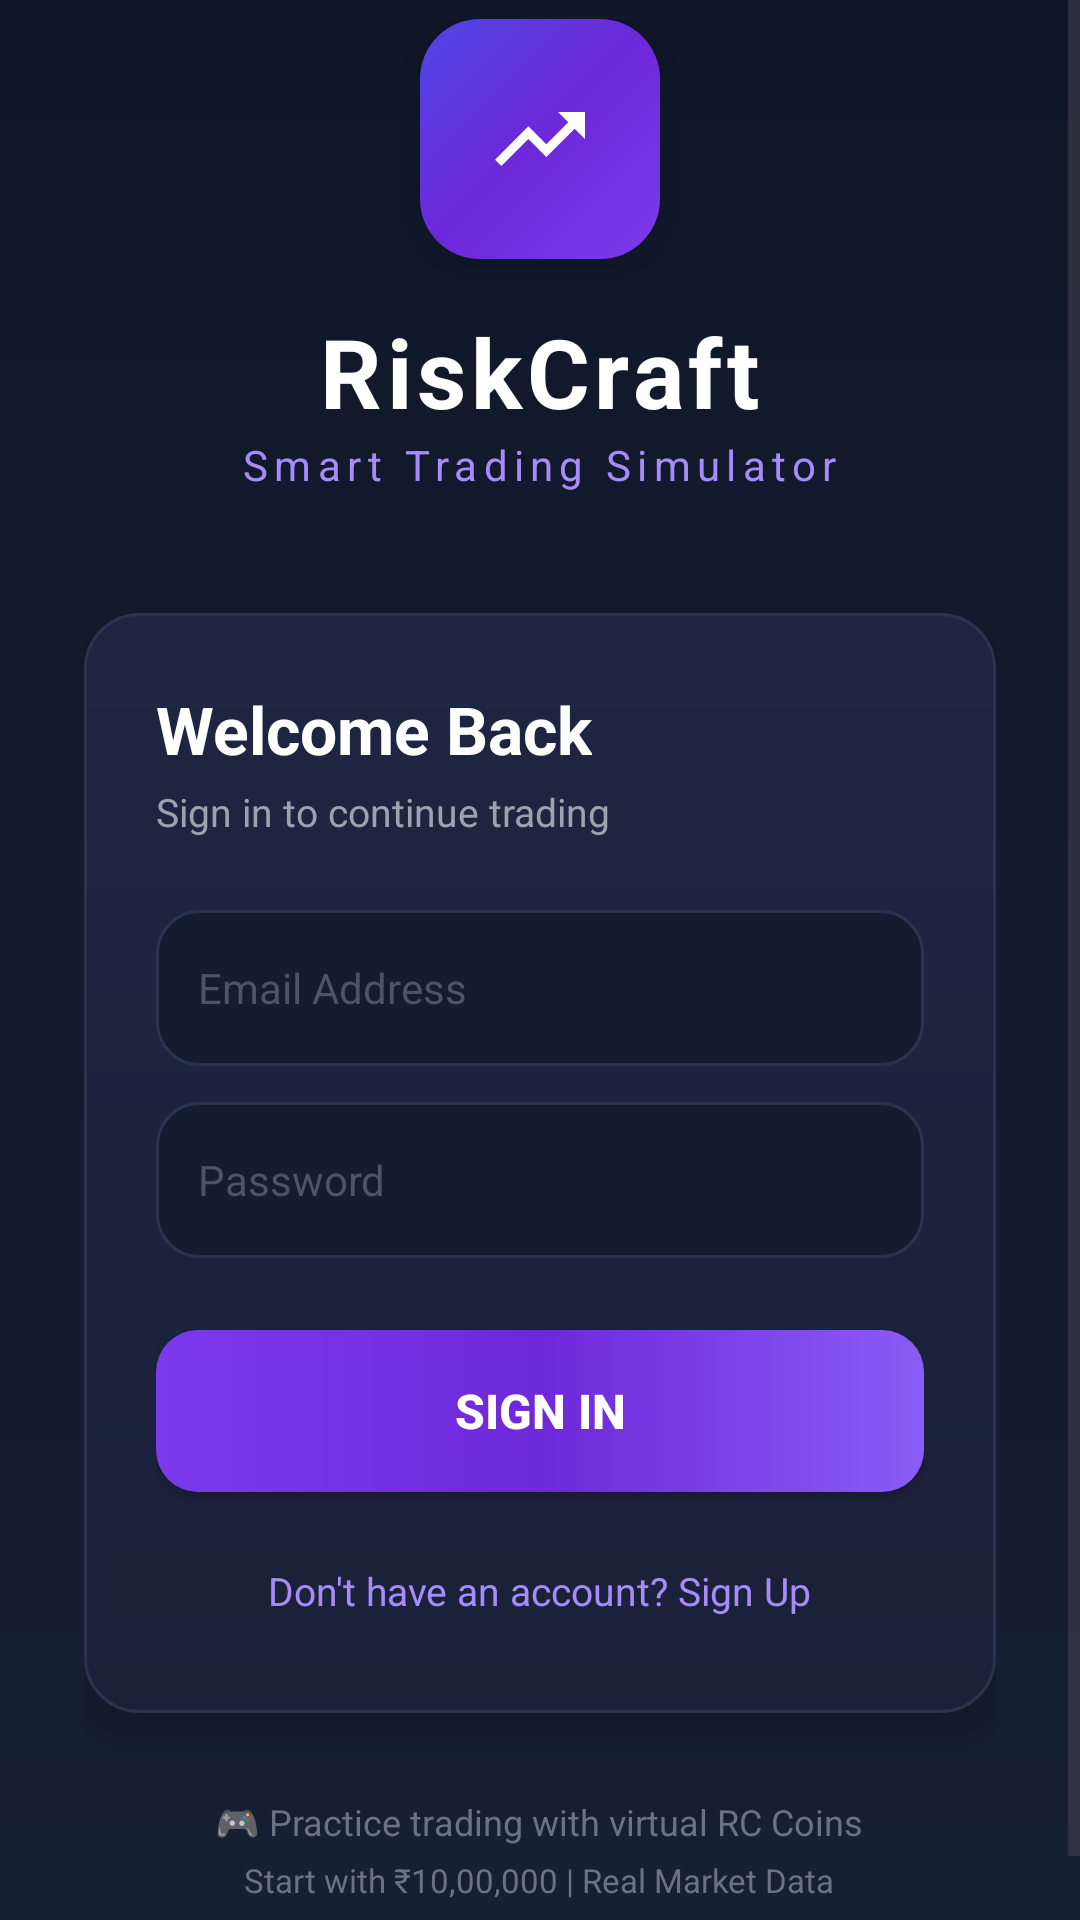

Icon bounding boxes for this 1080px×1920px phone screenshot, format box(x1, y1, x2, y2):
chart: box(495, 112, 585, 166)
